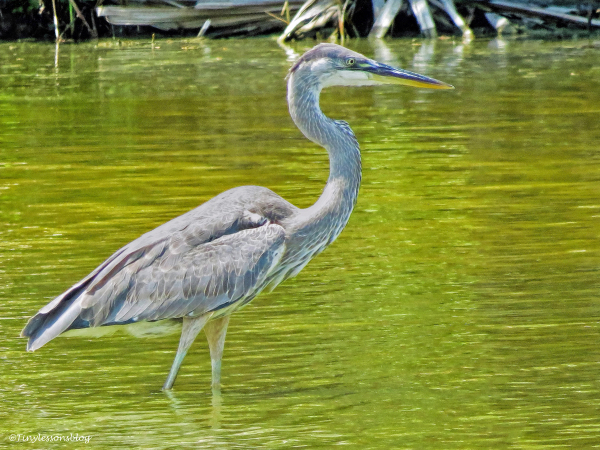heron: (20, 41, 459, 405)
